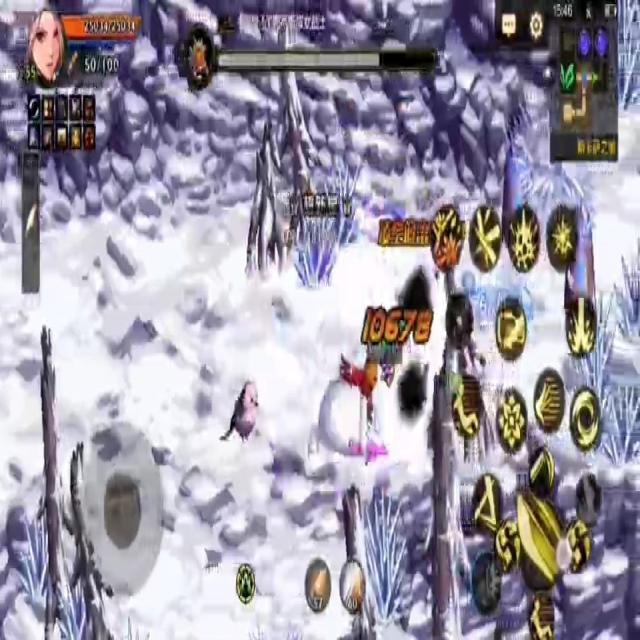player: (307, 353, 380, 468)
